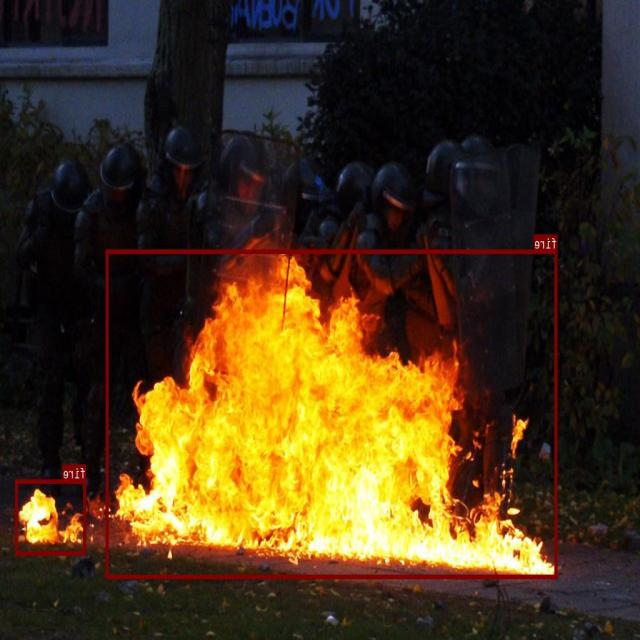fire: (106, 249, 558, 578), (16, 478, 87, 554)
